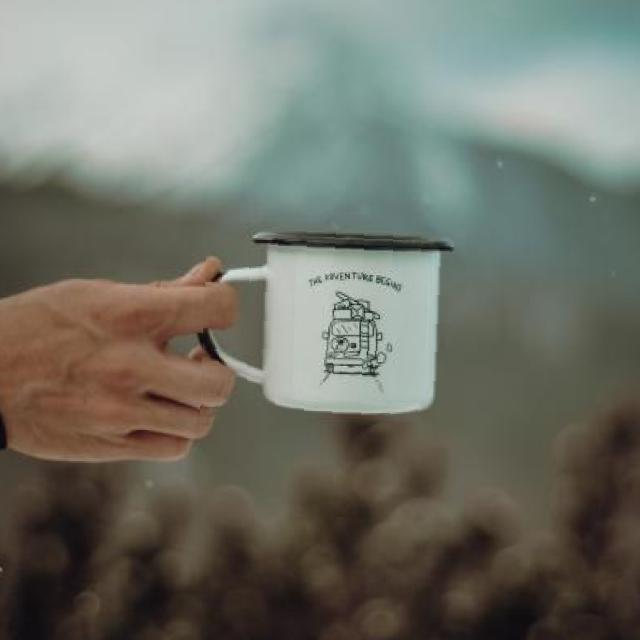cup: (201, 220, 468, 425)
